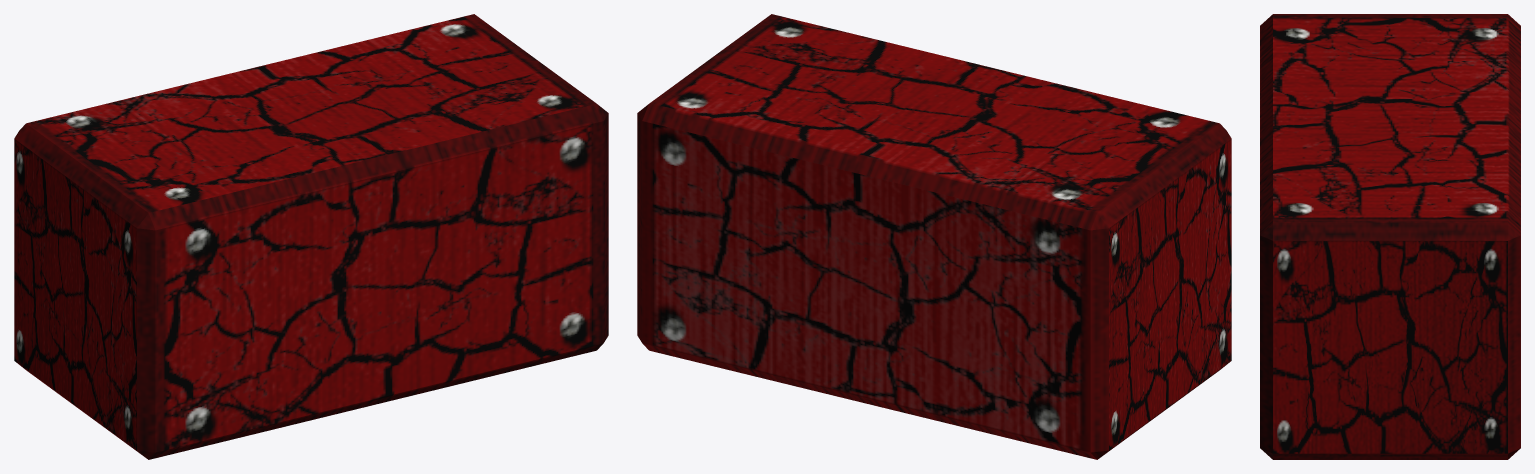
Rendered from Box_1_2x1x1_red_c.obj.
3 views of the same model, side by side, from view 1: azimuth 30°, elevation 25°; view 2: azimuth 150°, elevation 25°; view 3: azimuth 270°, elevation 25° (orthographic). The views are drawn at different scales.
Visible parts, largest first — view 1: default; view 2: default; view 3: default.
Boxes of the visible parts, x1=… form: default: x1=14, y1=14, x2=608, y2=459; default: x1=637, y1=14, x2=1231, y2=459; default: x1=1260, y1=14, x2=1520, y2=459.
Size of the model in its own units: 2 by 1 by 1.
